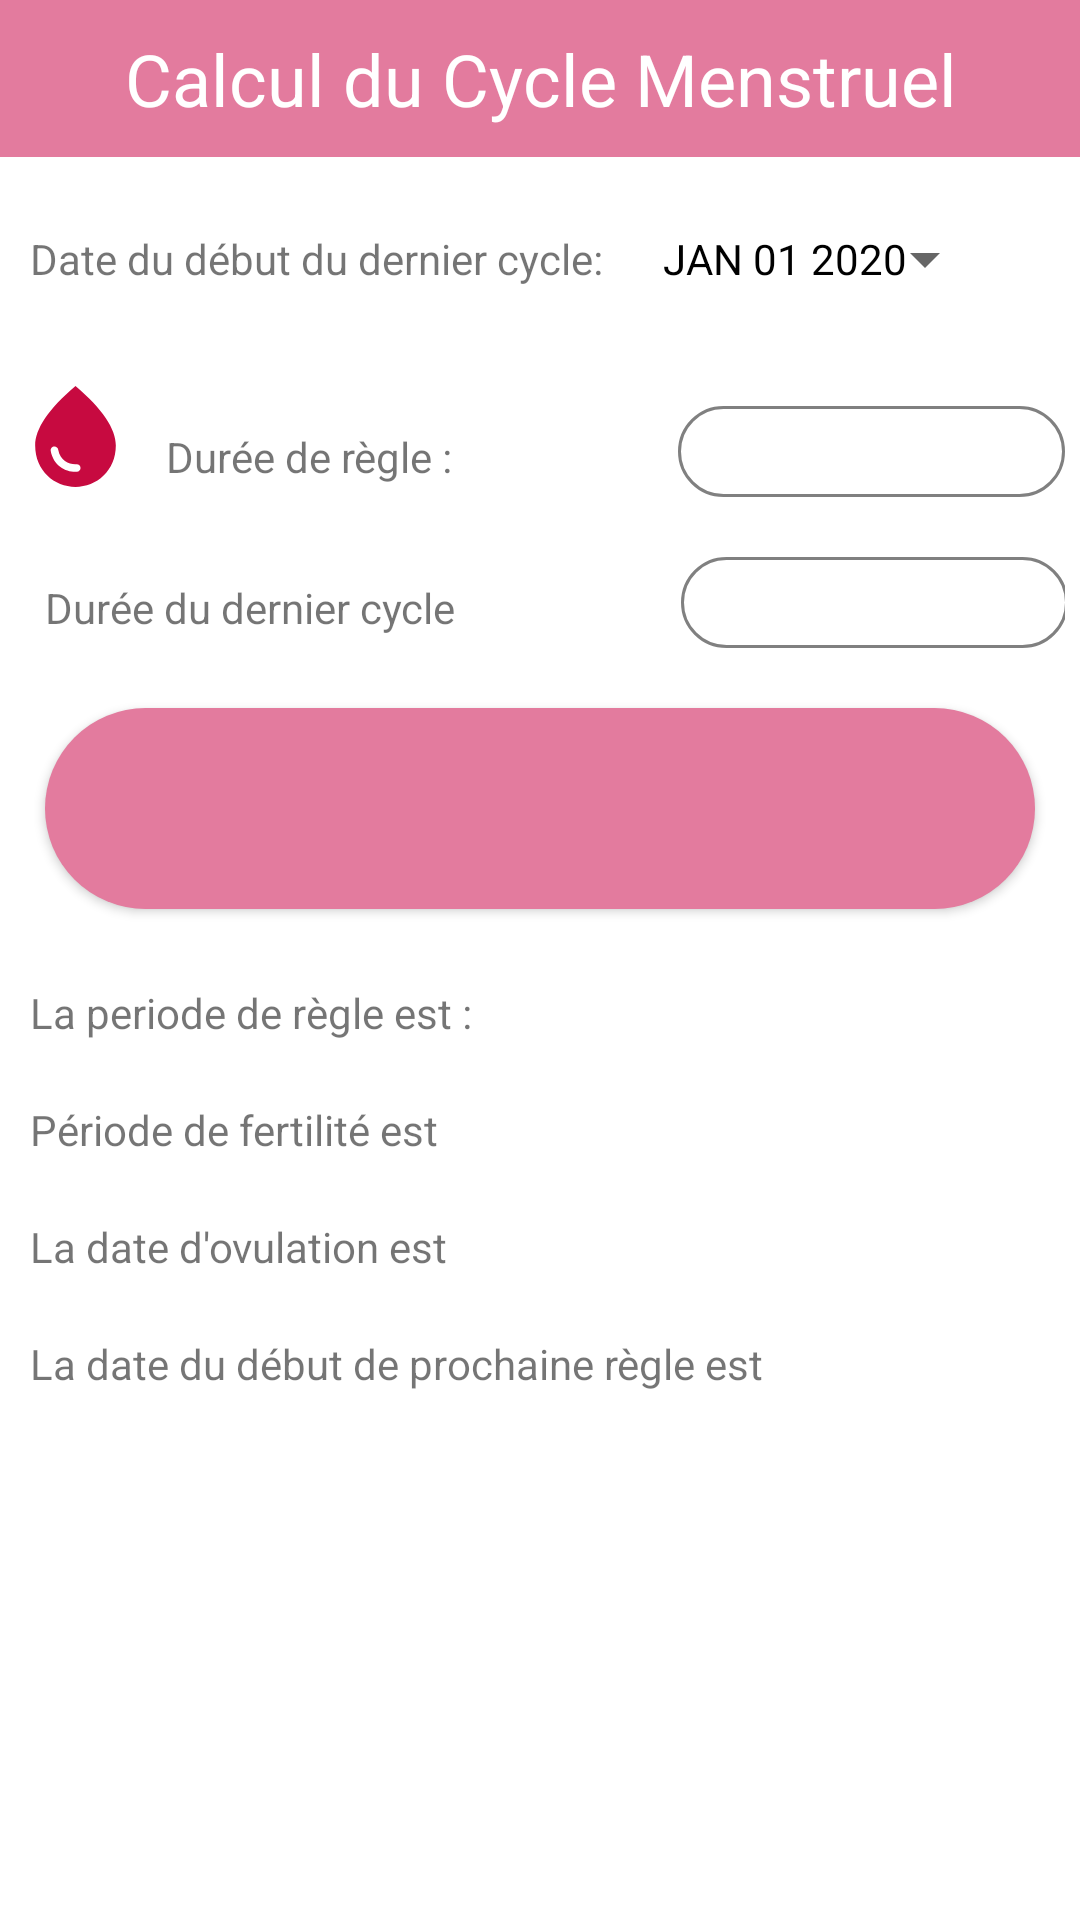

Screen size 1080 × 1920. Icon name, then its box in pixels as [x1, y1, x2, y2]:
water drop: [35, 386, 116, 487]
